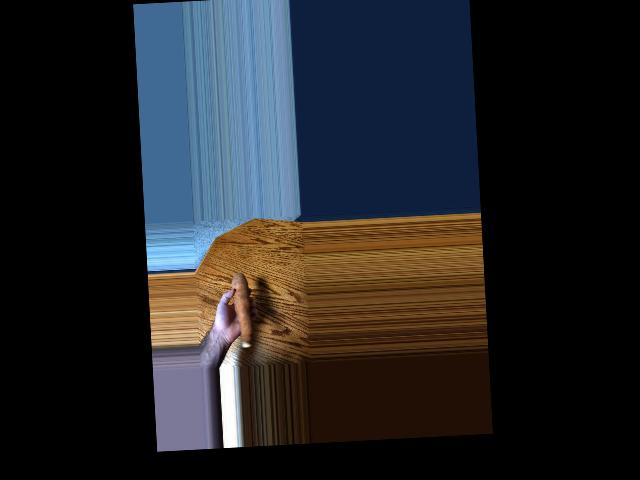sweet_potato: (234, 271, 257, 342)
